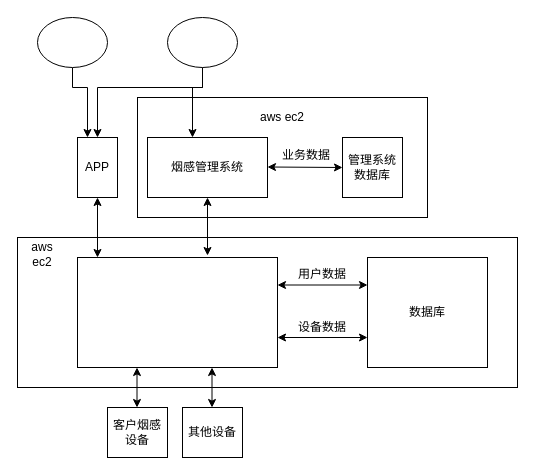
Image size: 535x475. Some labels were removed from this diagram. Each missing label, with the box of its shape:
Ringa平台: (76, 256, 278, 368)
其他用户: (36, 16, 108, 68)
客户用户: (166, 16, 238, 68)
